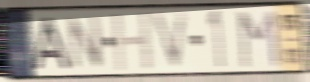1: (206, 8, 227, 72)
A: (32, 15, 73, 72)
H: (110, 10, 156, 75)
M: (237, 8, 282, 70)
N: (67, 14, 105, 72)
V: (148, 7, 191, 74)
